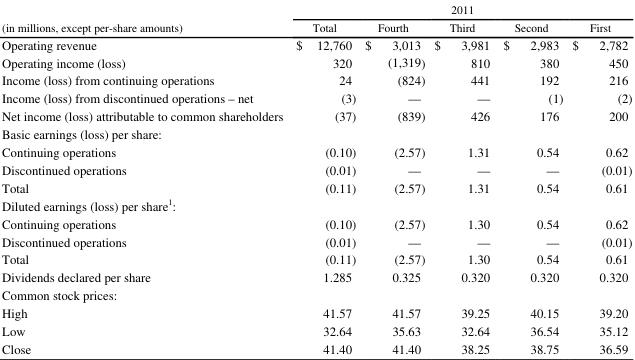table: (1, 0, 631, 356)
table column: (1, 0, 288, 356), (495, 0, 567, 356), (288, 0, 359, 356), (359, 0, 428, 356), (428, 0, 495, 356), (567, 0, 631, 356)
table column header: (1, 0, 631, 34)
table projected row header: (1, 124, 631, 142), (1, 195, 631, 213), (1, 285, 631, 303)
table row: (1, 34, 631, 52), (1, 52, 631, 70), (1, 70, 631, 88), (1, 88, 631, 106), (1, 106, 631, 124), (1, 124, 631, 142), (1, 142, 631, 160), (1, 177, 631, 195), (1, 195, 631, 213), (1, 213, 631, 231), (1, 231, 631, 249), (1, 249, 631, 267), (1, 267, 631, 285), (1, 285, 631, 303), (1, 303, 631, 321), (1, 321, 631, 339), (1, 0, 631, 17), (1, 17, 631, 34), (1, 160, 631, 177), (1, 339, 631, 356)
table spanning cell: (1, 0, 288, 34), (288, 0, 631, 17)
